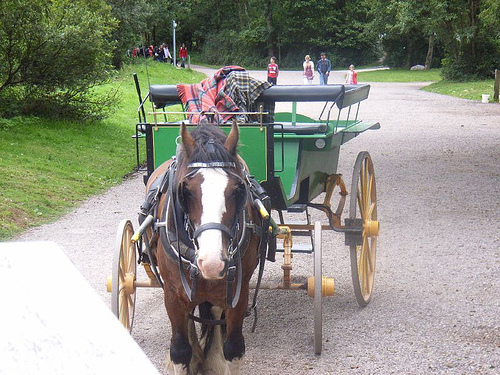horse: (149, 119, 271, 374)
